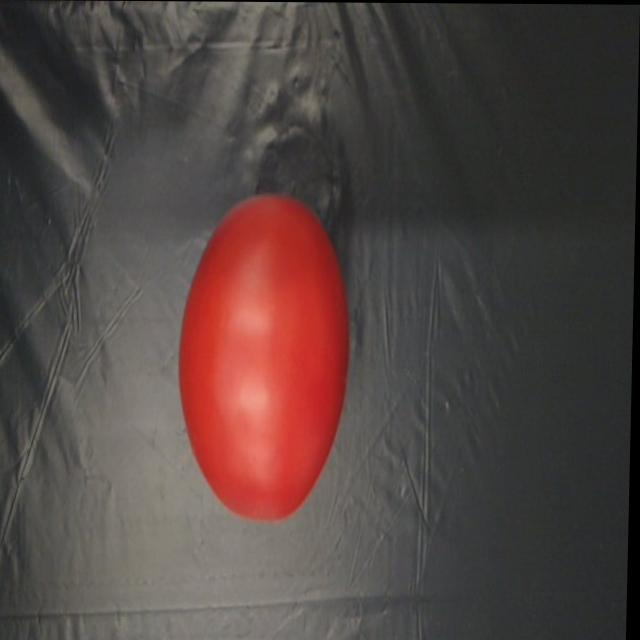kirmizi: (169, 169, 370, 524)
